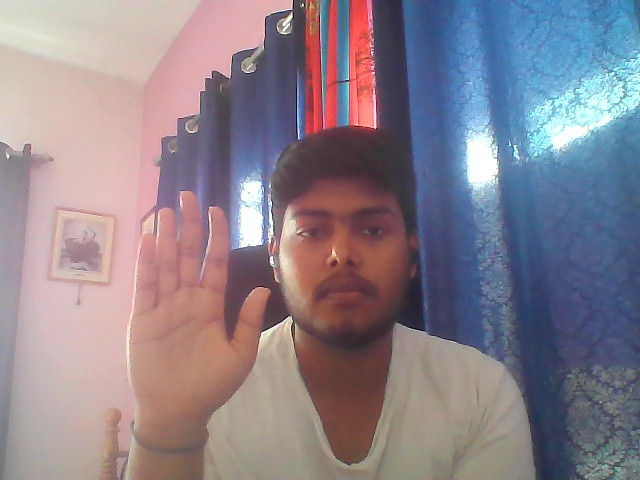Hello: (119, 185, 276, 434)
